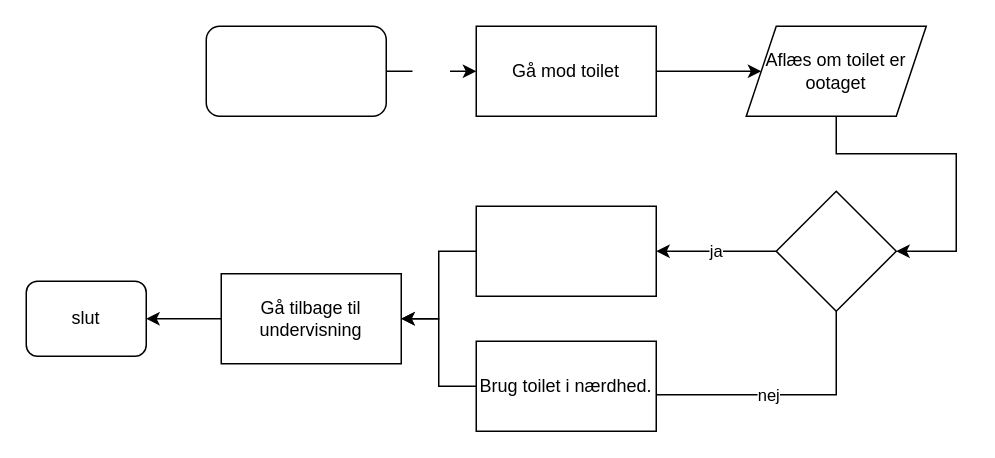
The diagram is 995 pixels wide and 458 high, and some of its shapes have lost their labels. Each missing label, with the centre of its shape:
Brug toilet på tredje: (565,250)
Er toilet optaget?: (835,250)
start: (295,70)
